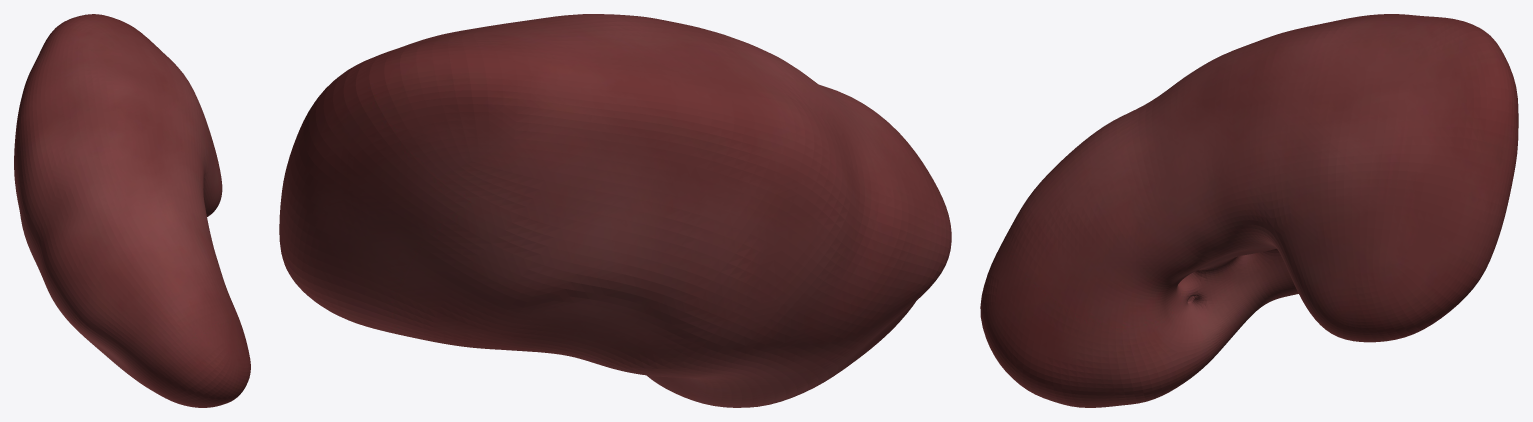
3 views of the same model, side by side, from view 1: azimuth 30°, elevation 25°; view 2: azimuth 150°, elevation 25°; view 3: azimuth 270°, elevation 25° (orthographic). The views are drawn at different scales.
Visible parts, largest first — view 1: ZBrushPolyMesh3D; view 2: ZBrushPolyMesh3D; view 3: ZBrushPolyMesh3D.
Part boxes in pixels (x1,y1,x2,y2): ZBrushPolyMesh3D: [14, 14, 250, 407]; ZBrushPolyMesh3D: [279, 14, 951, 407]; ZBrushPolyMesh3D: [980, 14, 1518, 407].
Size of the model in its own units: 9.33 by 10.15 by 13.12.
Materials: 1 (1 with a texture image).
